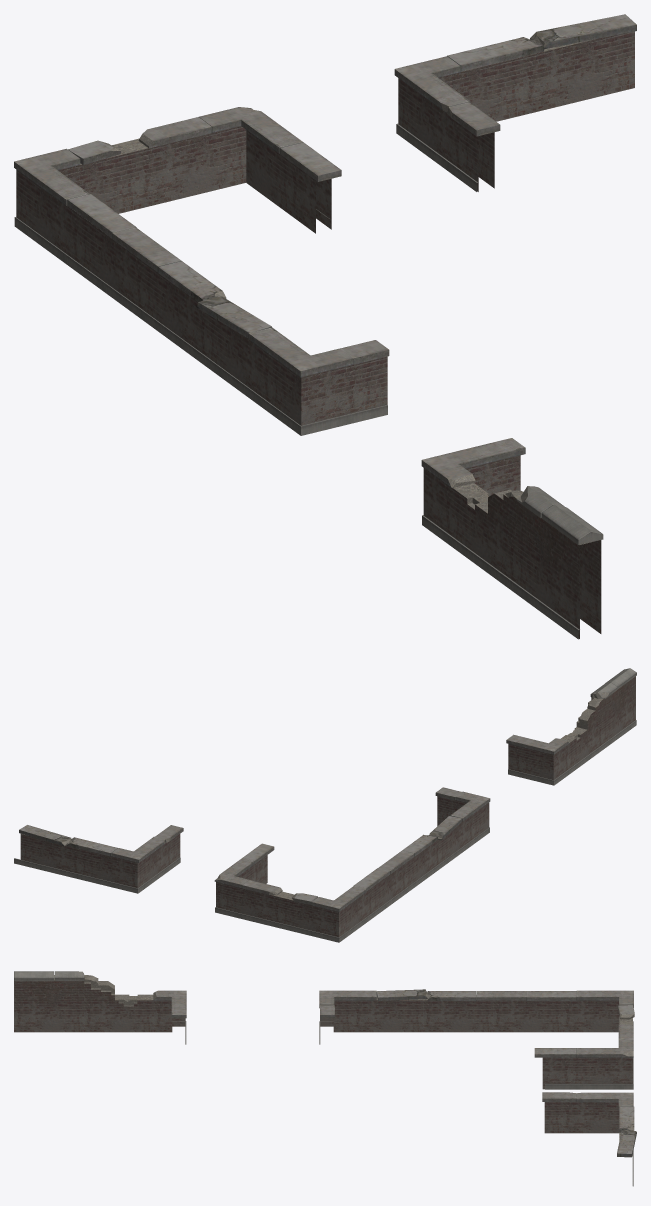
Rendered from Cemetery_STR_House_01_Wall.fbx.
3 renders of one model, top to bottom at view 1: azimuth 30°, elevation 25°; view 2: azimuth 150°, elevation 25°; view 3: azimuth 270°, elevation 25°, orthographic. The views are drawn at different scales.
Parts seen in each view (by area): view 1: Cemetery_STR_House_01_Wall; view 2: Cemetery_STR_House_01_Wall; view 3: Cemetery_STR_House_01_Wall.
Part boxes in pixels (x1=…): Cemetery_STR_House_01_Wall: x1=14, y1=14, x2=636, y2=639; Cemetery_STR_House_01_Wall: x1=14, y1=668, x2=636, y2=942; Cemetery_STR_House_01_Wall: x1=14, y1=971, x2=636, y2=1186.
Size of the model in its own units: 1175 by 190 by 1853.
1 material, 1 textured.
